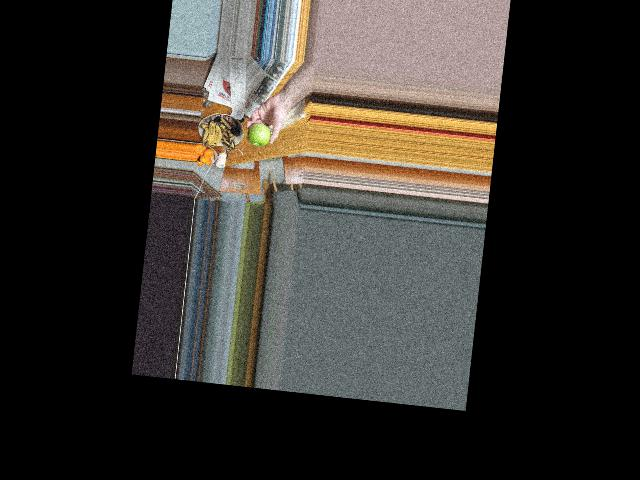apple: (250, 121, 273, 147)
